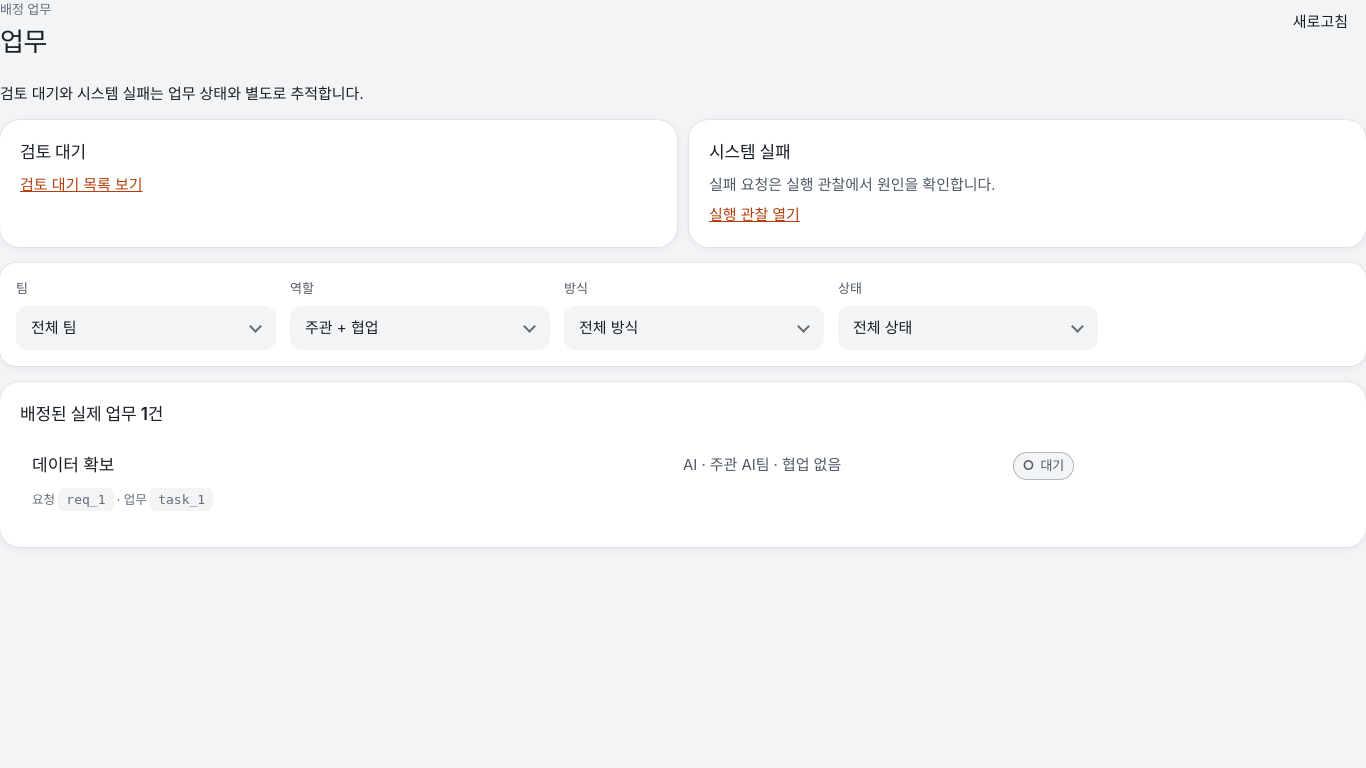
Tasks block reasons (P4-01) › keeps the latest block reasons after a 409 and explains them
This screenshot has width=1366, height=768.
Click the button "데이터 확보 AI · 주관 AI팀 · 협업 없음 ○ 대기 요청 req_1 · 업무 task_1" at (73, 465), box [20,436,1346,527]
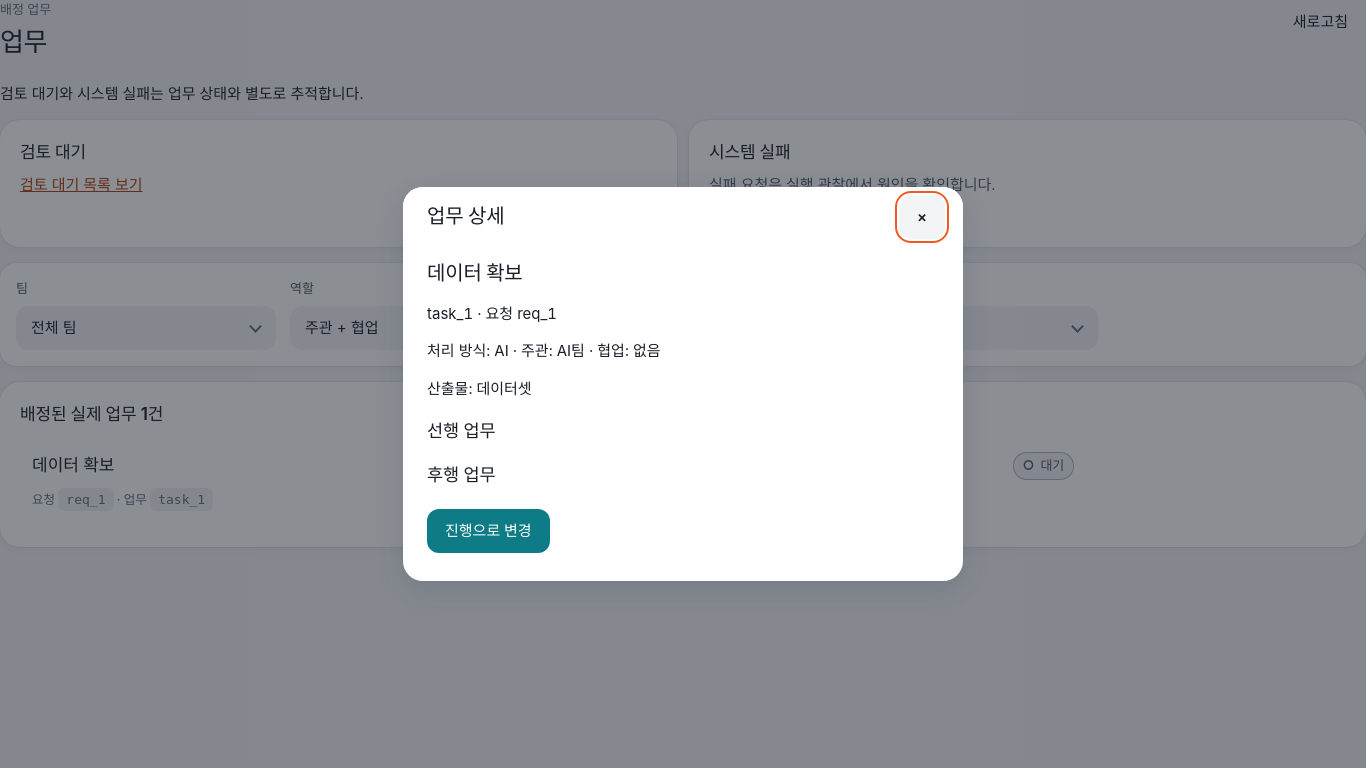
Click the button "진행으로 변경" at (488, 531), box [427,509,550,553]
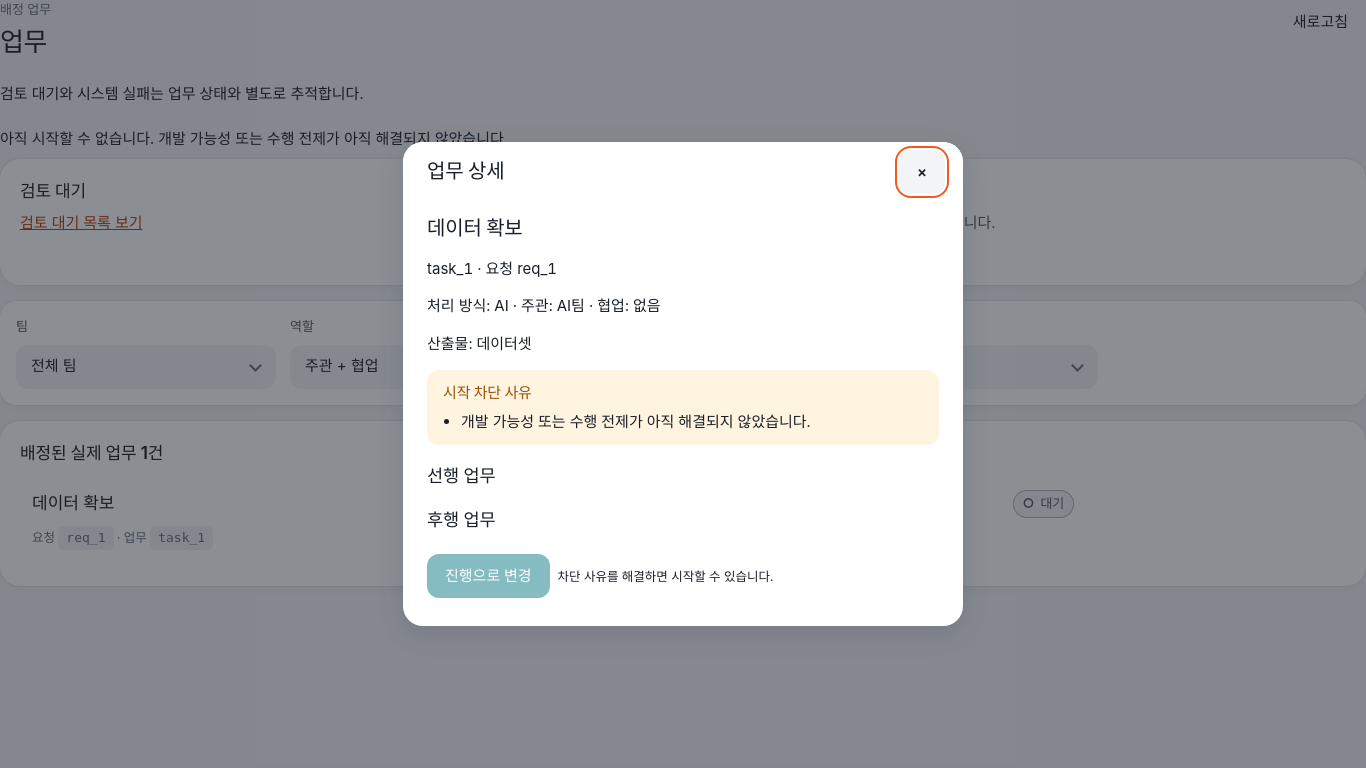
Expected: the button "진행으로 변경" is disabled, [427,554,550,598]
Expected: the message shows "개발 가능성", [0,129,508,148]
